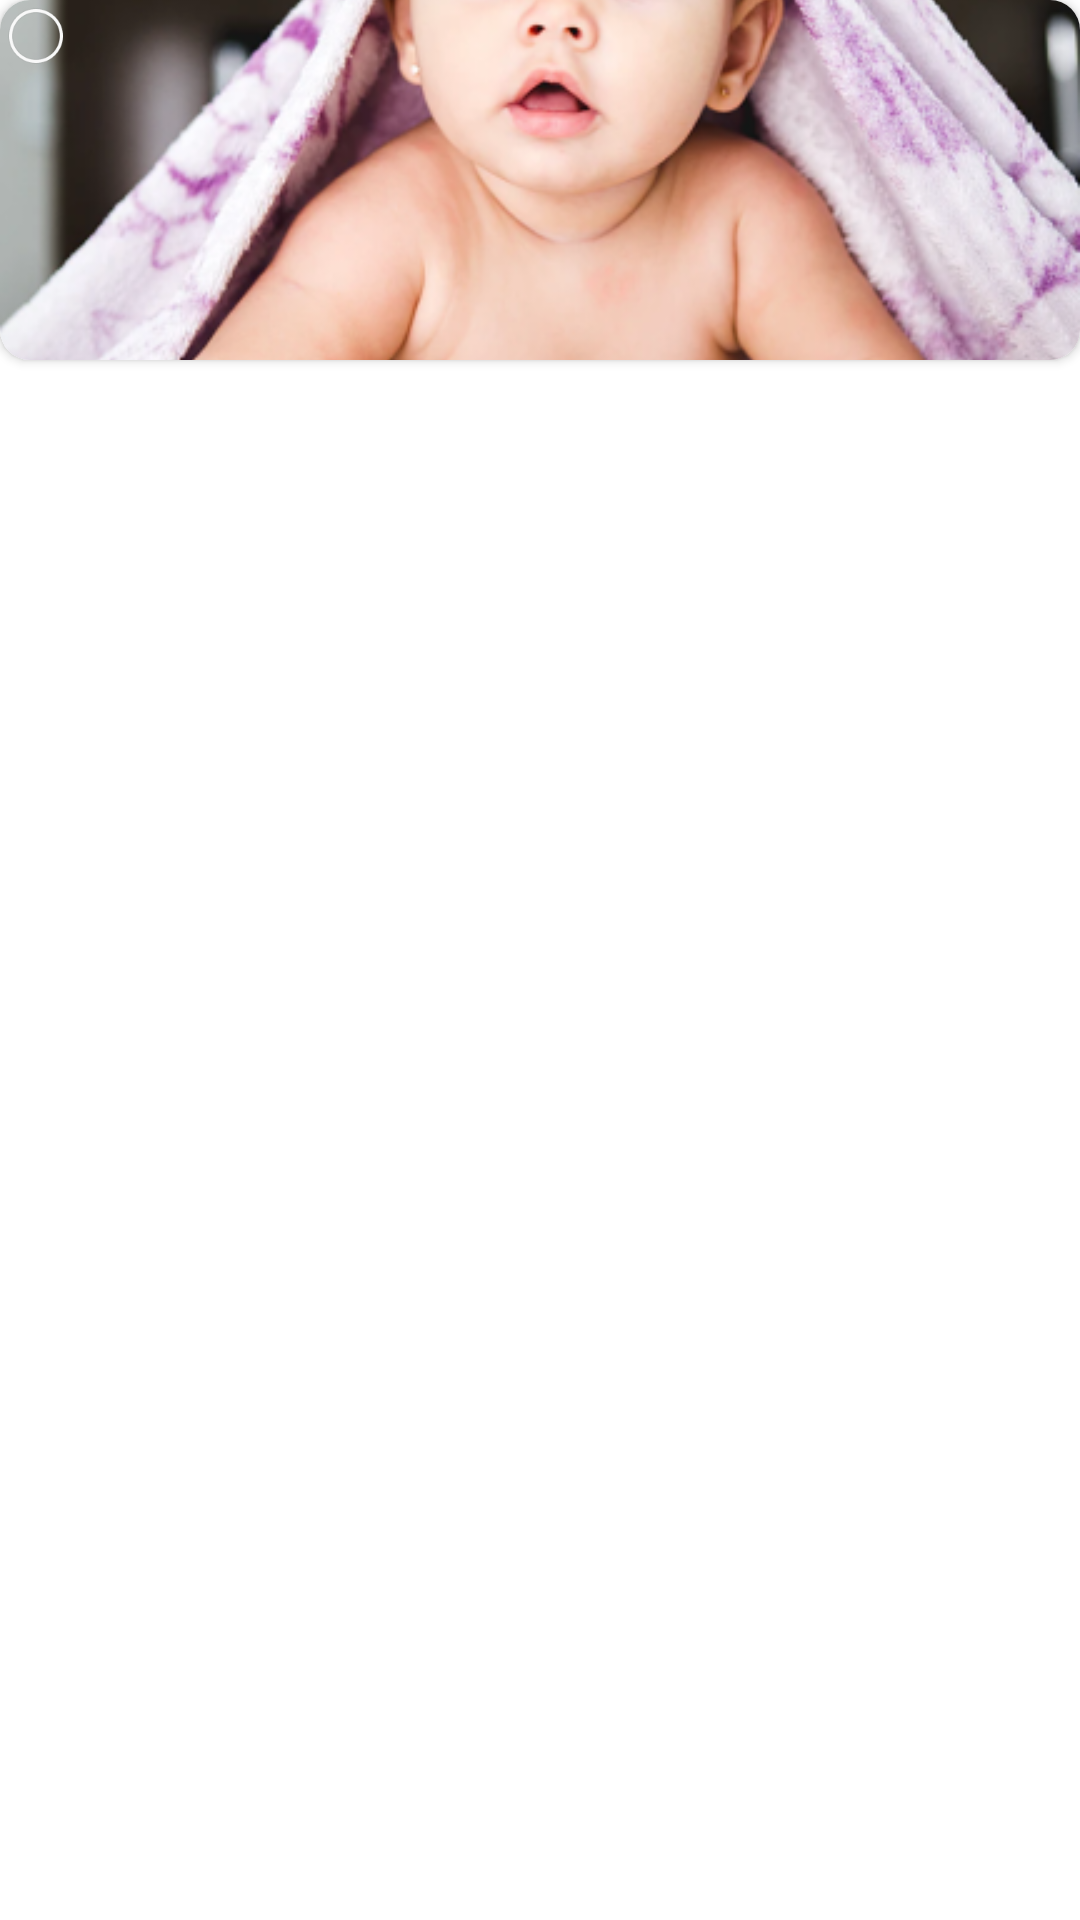

Icons on this 1080w x 1920h Android screen, each with the point to tap as [x,y]:
select off: [36,36]
